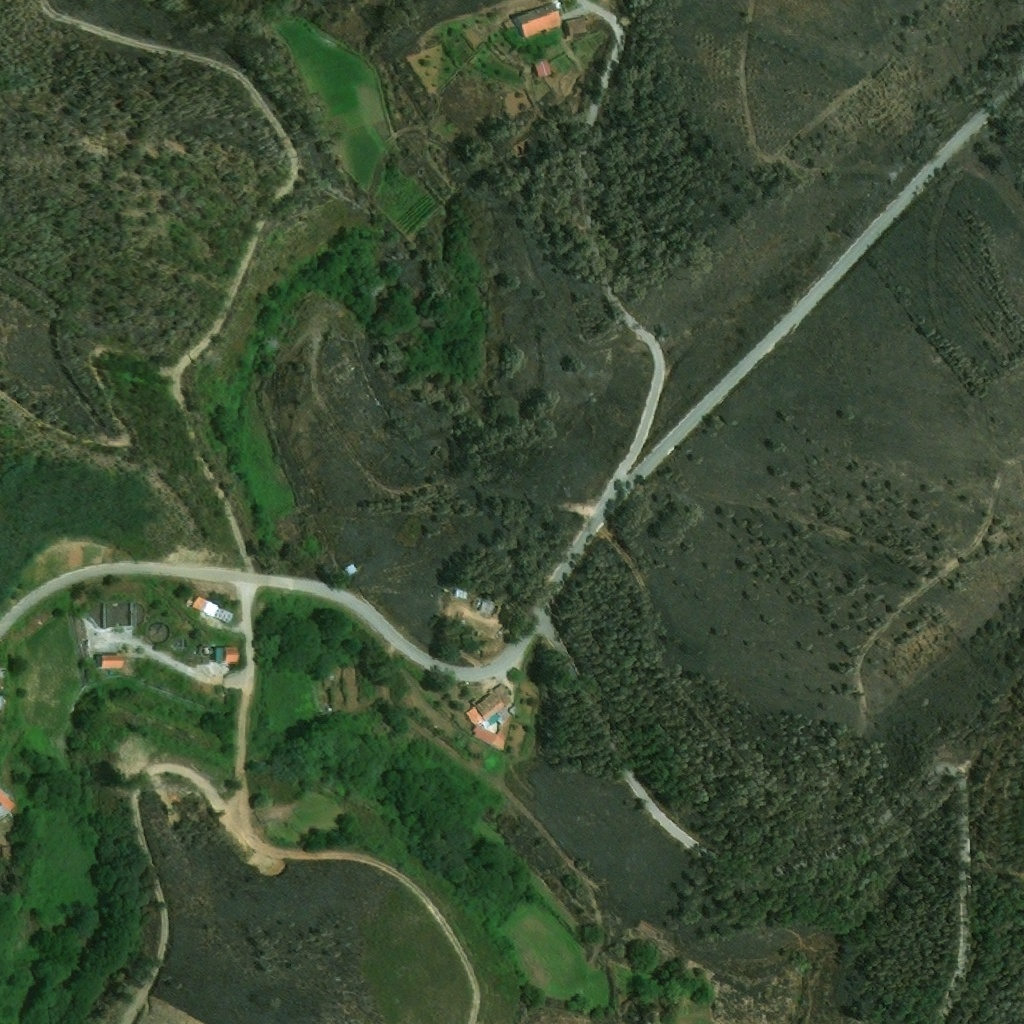0 no-damage: (466, 684, 512, 728), (473, 712, 513, 752), (512, 7, 560, 39), (189, 595, 233, 625), (564, 15, 594, 35), (0, 788, 17, 822), (93, 652, 124, 669), (530, 57, 551, 79), (213, 647, 238, 664), (477, 599, 497, 616), (342, 563, 359, 578), (453, 586, 468, 600), (508, 706, 516, 715)
3 destroyed: (510, 139, 531, 158)
4 un-classified: (0, 695, 4, 710)
